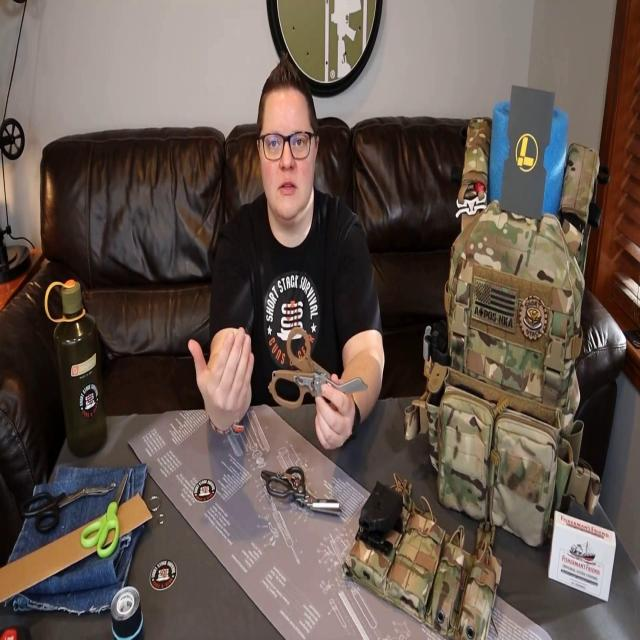scissor: (269, 327, 369, 408), (19, 480, 116, 532), (261, 465, 342, 518), (81, 474, 128, 559)
